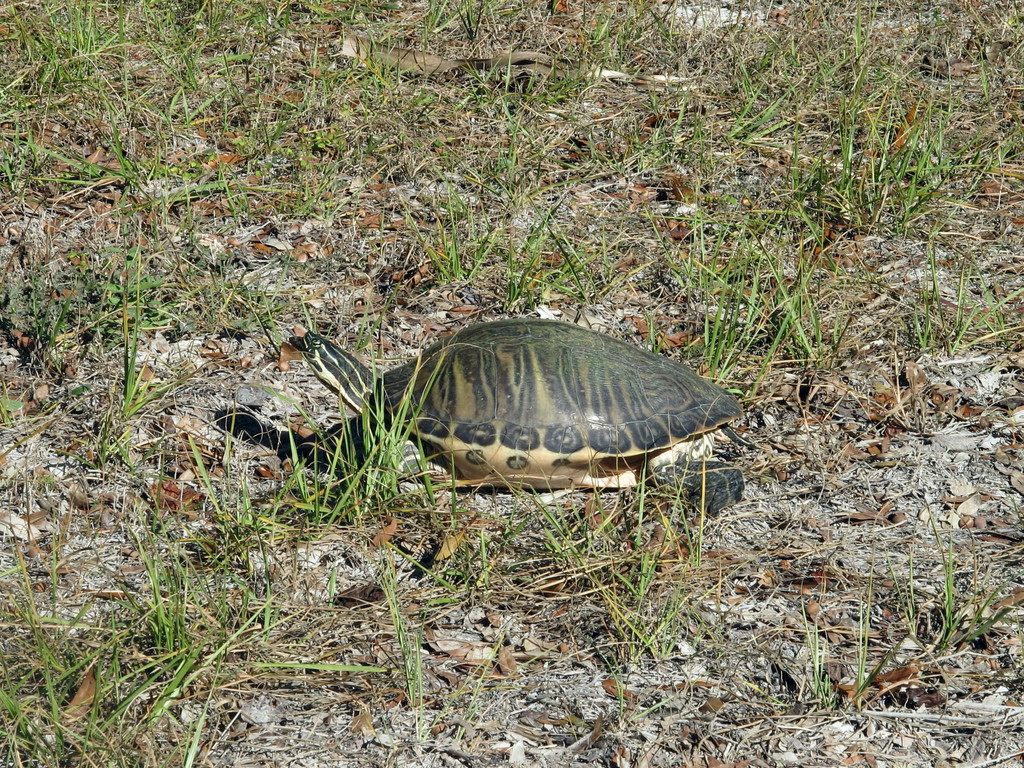Sea turtles: (281, 311, 749, 519)
